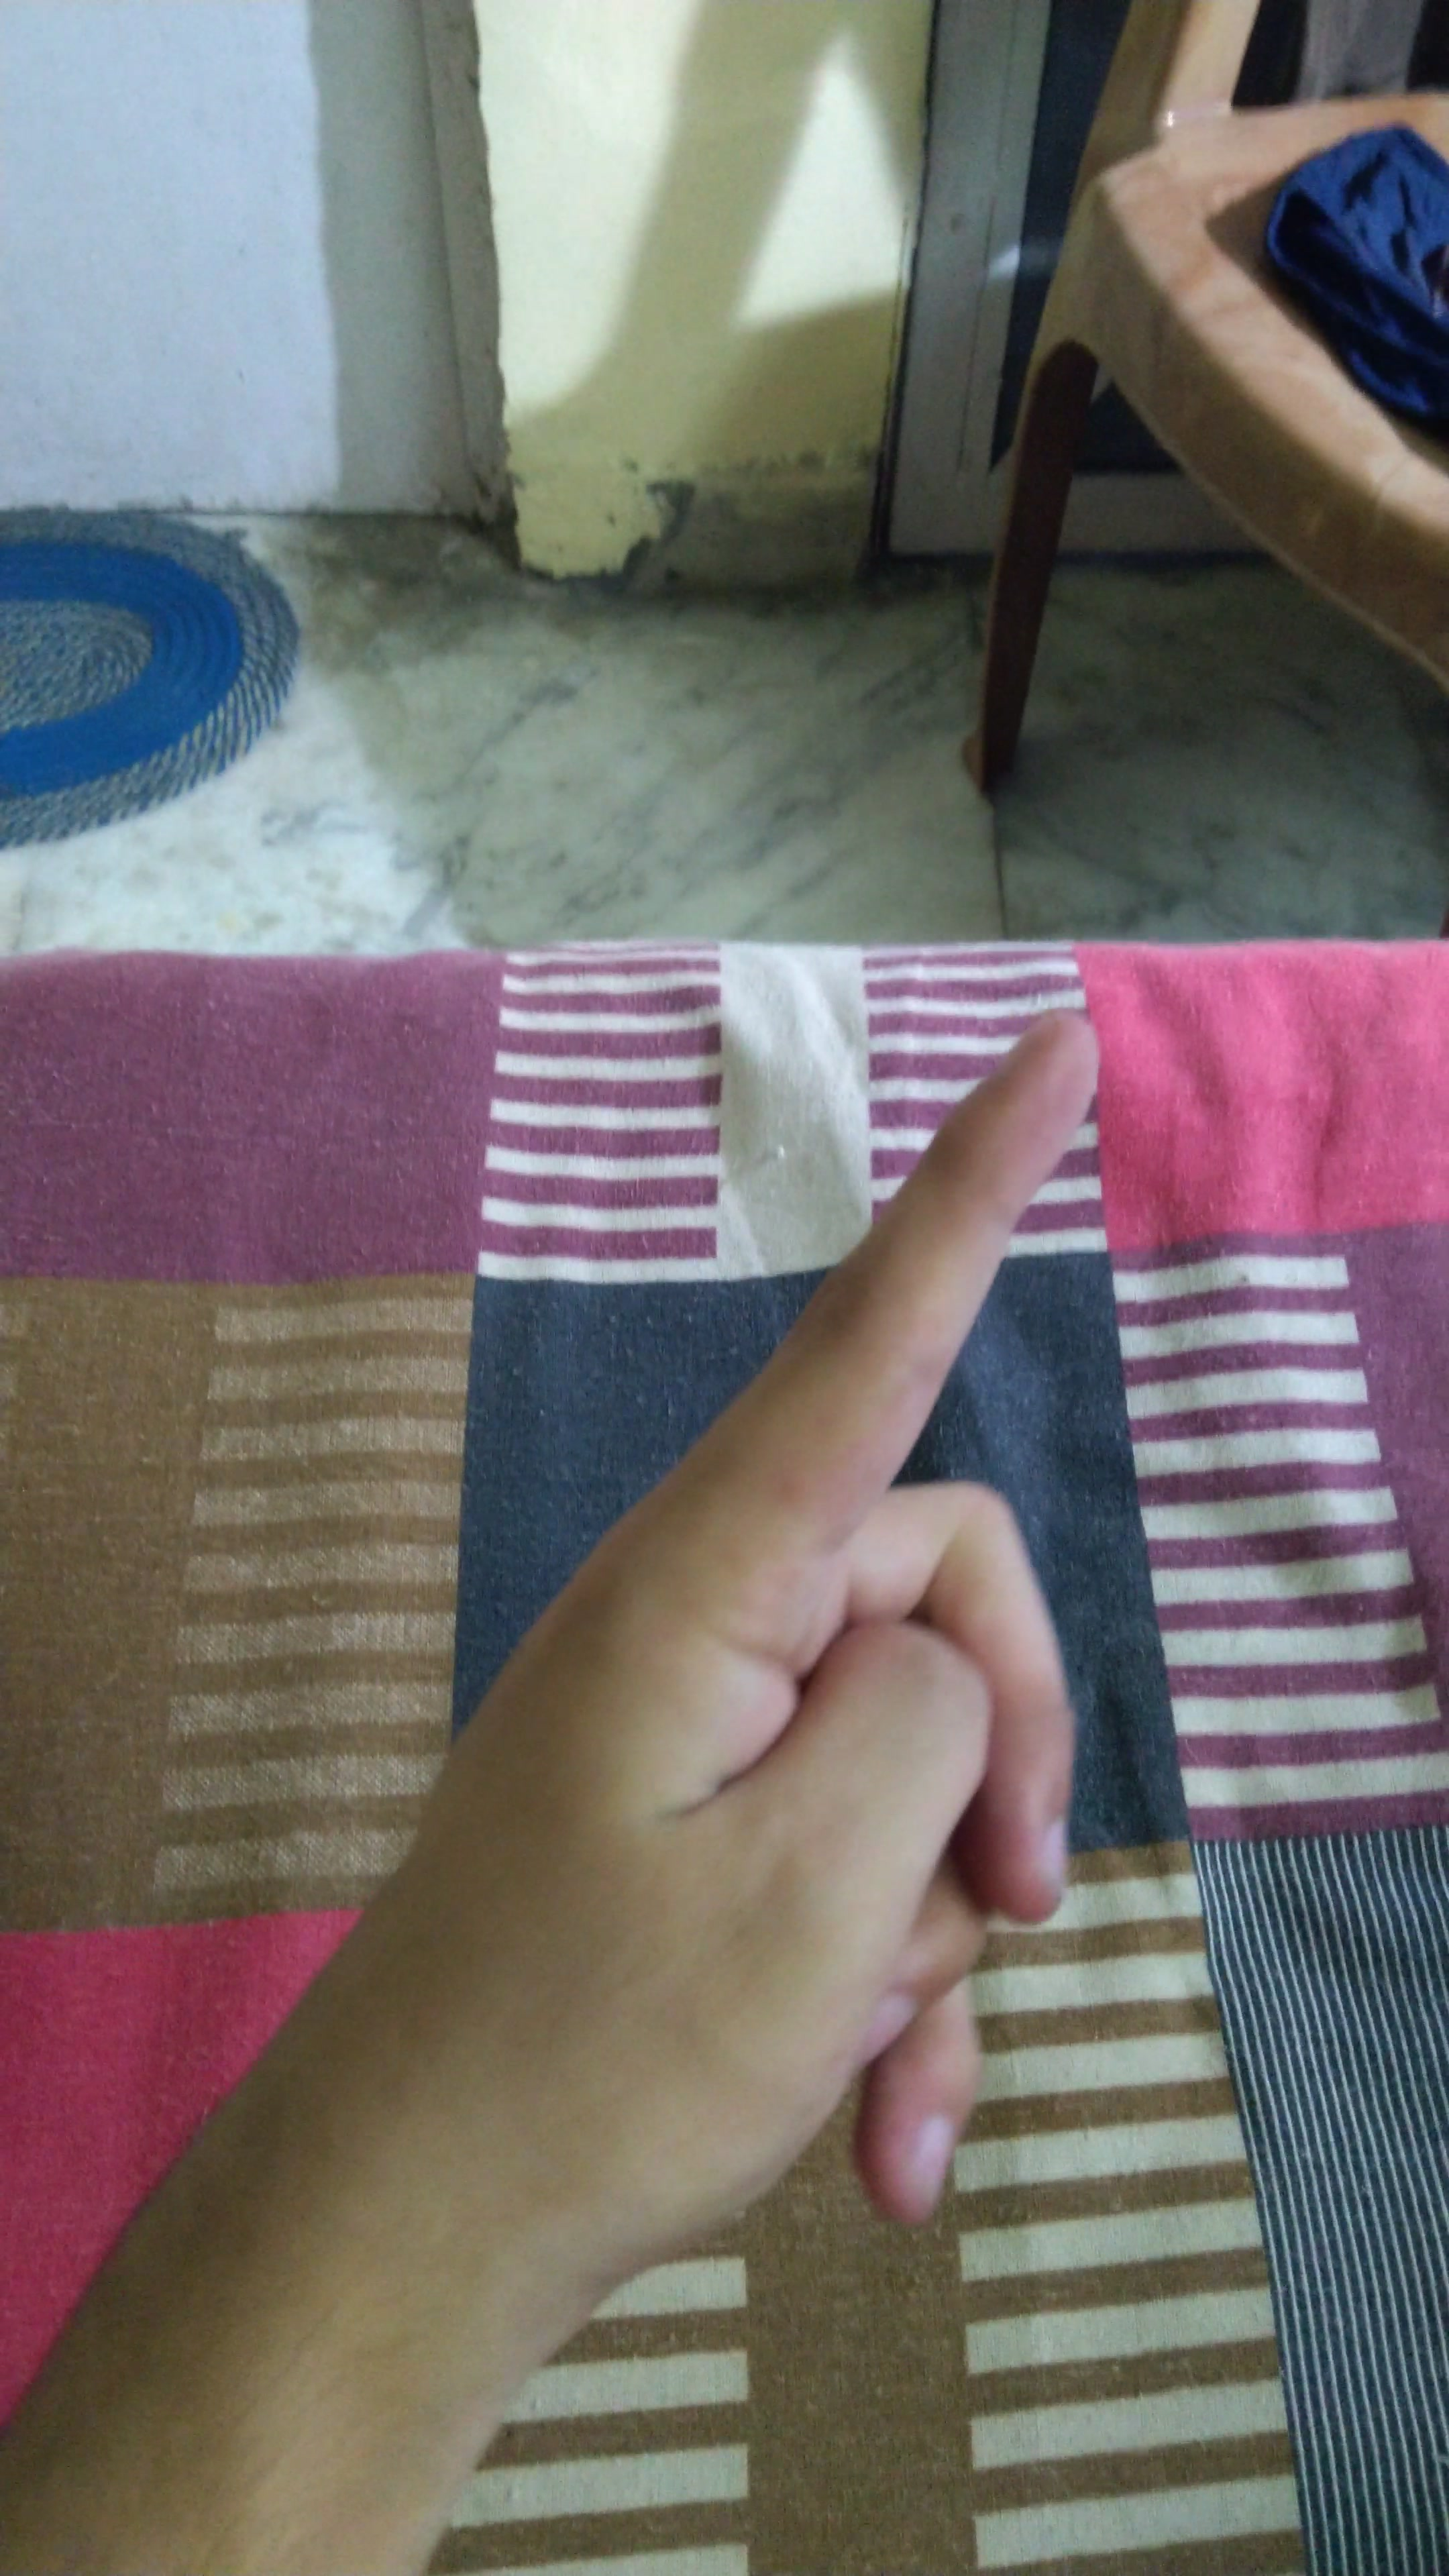hand: (368, 991, 1168, 2311)
